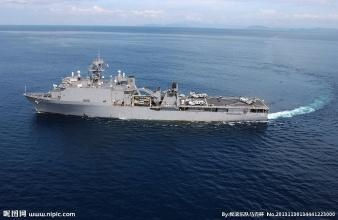warship: (24, 55, 272, 122)
